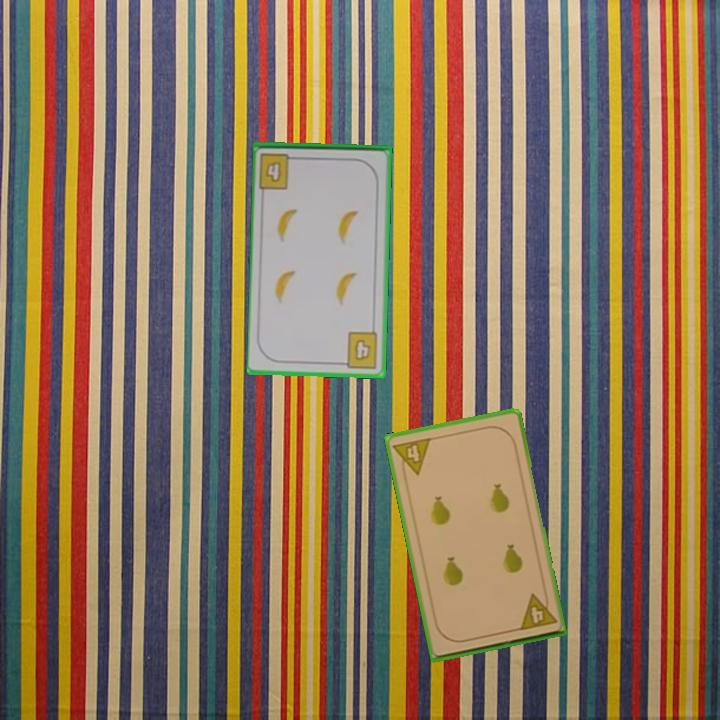4b: (256, 149, 301, 192), (337, 328, 380, 371)
4p: (389, 434, 434, 480), (515, 588, 560, 633)
